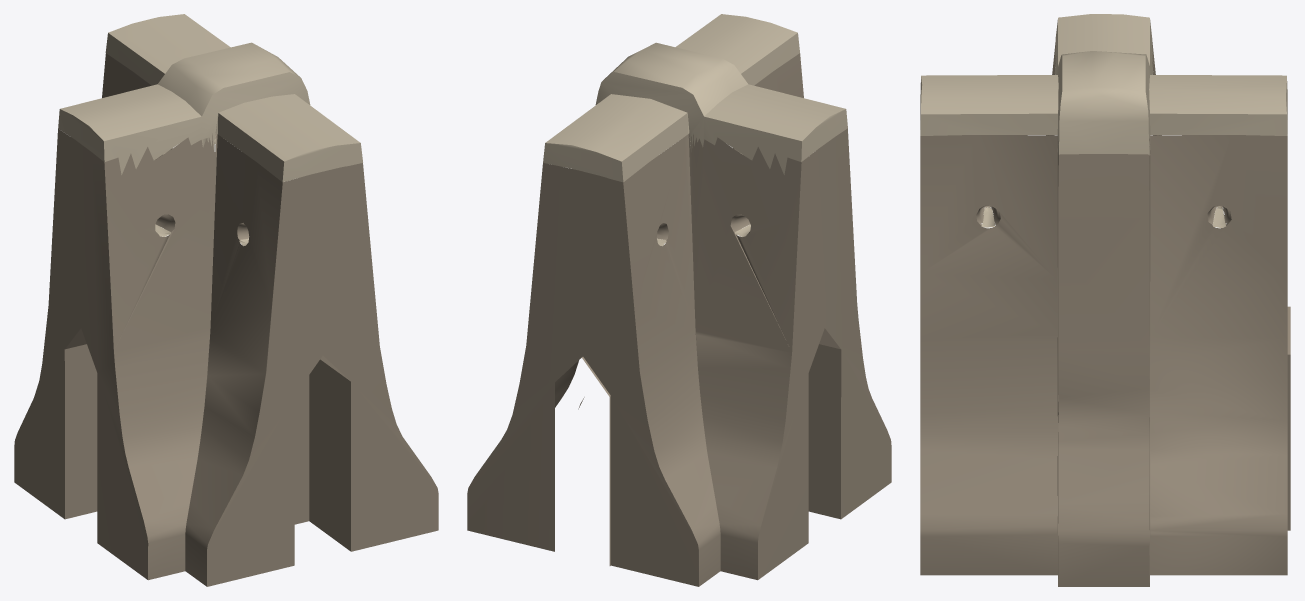
Rendered from stone-wall-nsw.glb.
3 renders of one model, left to right at view 1: azimuth 30°, elevation 25°; view 2: azimuth 150°, elevation 25°; view 3: azimuth 270°, elevation 25°, orthographic. The views are drawn at different scales.
Visible parts, largest first — view 1: body; view 2: body; view 3: body.
Part boxes in pixels (x1=…): body: x1=14, y1=14, x2=438, y2=586; body: x1=467, y1=14, x2=891, y2=586; body: x1=920, y1=14, x2=1290, y2=586.
Bounding box in the file's own units: 0.9378 × 1.32 × 0.9921.
